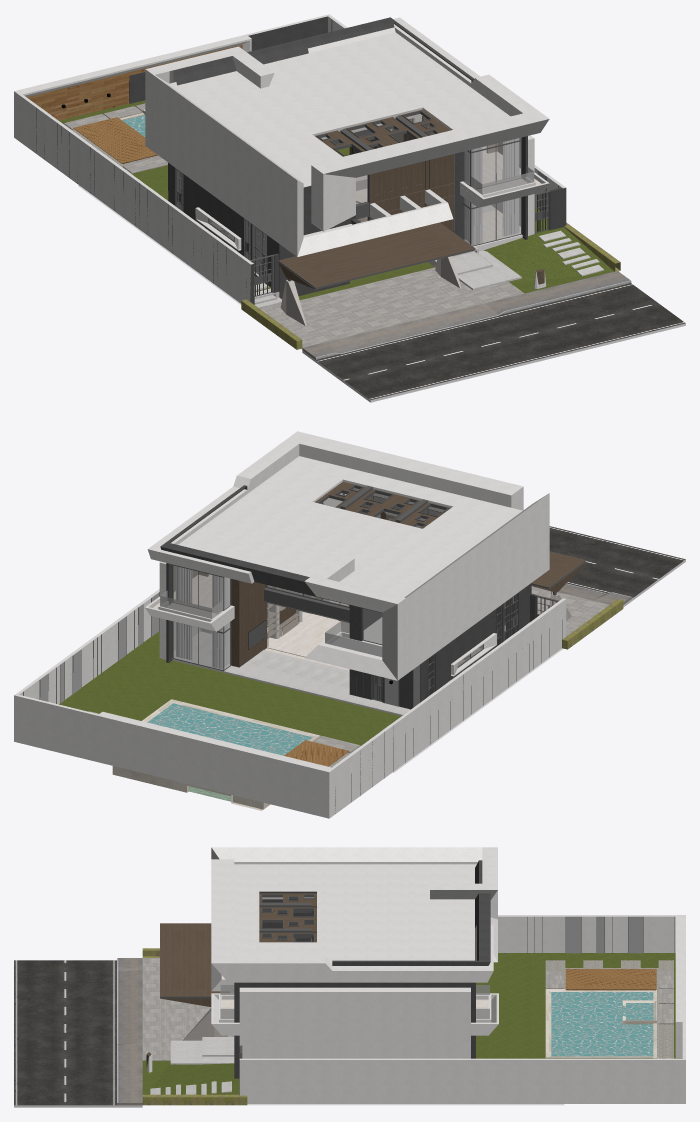
File: modelo_animado_web_360.glb
3 views of the same model, one above another, from view 1: azimuth 30°, elevation 25°; view 2: azimuth 150°, elevation 25°; view 3: azimuth 270°, elevation 25° (orthographic). The views are drawn at different scales.
Visible parts, largest first — view 1: Nivel3_Cubierta_Malla_Color A08, Nivel1_Malla_Color L04, Nivel2_Malla_Color A08, Nivel1_Malla_Color I02, Nivel1_Malla_Color A08, Nivel2_Malla_[Color A03]1, Nivel1_Malla_Color A07, Nivel2_Malla_[Color A02]1, Nivel1_Malla_Color I03, Nivel3_Cubierta_Malla_[Color A02]1, Nivel1_Malla_Color A03, Nivel1_Malla_Color E07 (+17 smaller); view 2: Nivel3_Cubierta_Malla_Color A08, Nivel2_Malla_Color A08, Nivel1_Malla_Color A08, Nivel1_Malla_Color A07, Nivel1_Malla_Color L04, Nivel1_Malla_Color E07, Nivel2_Malla_[Color A02]1, Nivel1_Malla_Agua azul oscura, Nivel2_Malla_Color M08, Nivel2_Malla_[Translucent Glass Gray]1, Nivel3_Cubierta_Malla_[Color A02]1, Nivel3_Cubierta_Malla_[Translucent Glass Gray]1 (+19 smaller); view 3: Nivel3_Cubierta_Malla_Color A08, Nivel2_Malla_Color A08, Nivel1_Malla_Color A08, Nivel1_Malla_Color L04, Nivel1_Malla_Color A07, Nivel1_Malla_Agua azul oscura, Nivel3_Cubierta_Malla_[Color A02]1, Nivel2_Malla_[Color A03]1, Nivel1_Malla_Color I03, Nivel1_Malla_Color I02, Nivel1_Malla_Color E07, Nivel1_Malla_Color A03 (+13 smaller).
Boxes of the visible parts, <box> form: Nivel3_Cubierta_Malla_Color A08: <box>145,17,549,237</box>; Nivel1_Malla_Color L04: <box>316,283,685,399</box>; Nivel2_Malla_Color A08: <box>14,14,565,281</box>; Nivel1_Malla_Color I02: <box>260,267,524,347</box>; Nivel1_Malla_Color A08: <box>14,109,547,303</box>; Nivel2_Malla_[Color A03]1: <box>278,139,474,288</box>; Nivel1_Malla_Color A07: <box>59,100,613,300</box>; Nivel2_Malla_[Color A02]1: <box>36,16,566,281</box>; Nivel1_Malla_Color I03: <box>302,271,631,359</box>; Nivel3_Cubierta_Malla_[Color A02]1: <box>173,17,527,223</box>; Nivel1_Malla_Color A03: <box>37,82,157,163</box>; Nivel1_Malla_Color E07: <box>254,205,603,308</box>; Nivel3_Cubierta_Malla_Color A08: <box>147,431,549,660</box>; Nivel2_Malla_Color A08: <box>14,550,566,789</box>; Nivel1_Malla_Color A08: <box>14,609,566,818</box>; Nivel1_Malla_Color A07: <box>59,631,401,745</box>; Nivel1_Malla_Color L04: <box>374,496,685,598</box>; Nivel1_Malla_Color E07: <box>172,626,505,716</box>; Nivel2_Malla_[Color A02]1: <box>23,583,535,766</box>; Nivel1_Malla_Agua azul oscura: <box>147,703,312,755</box>; Nivel2_Malla_Color M08: <box>172,551,585,686</box>; Nivel2_Malla_[Translucent Glass Gray]1: <box>160,585,513,656</box>; Nivel3_Cubierta_Malla_[Color A02]1: <box>160,485,381,629</box>; Nivel3_Cubierta_Malla_[Translucent Glass Gray]1: <box>160,493,440,649</box>; Nivel3_Cubierta_Malla_Color A08: <box>211,847,497,1016</box>; Nivel2_Malla_Color A08: <box>211,901,685,1076</box>; Nivel1_Malla_Color A08: <box>147,933,685,1103</box>; Nivel1_Malla_Color L04: <box>14,960,116,1105</box>; Nivel1_Malla_Color A07: <box>142,953,682,1094</box>; Nivel1_Malla_Agua azul oscura: <box>551,992,653,1056</box>; Nivel3_Cubierta_Malla_[Color A02]1: <box>234,860,490,1012</box>; Nivel2_Malla_[Color A03]1: <box>160,923,229,1006</box>; Nivel1_Malla_Color I03: <box>117,958,142,1105</box>; Nivel1_Malla_Color I02: <box>142,958,234,1060</box>; Nivel1_Malla_Color E07: <box>150,1037,234,1094</box>; Nivel1_Malla_Color A03: <box>565,969,656,990</box>.
Bounding box in the file's own units: 20.55 × 9.56 × 39.17.
127 materials, 52 textured.
